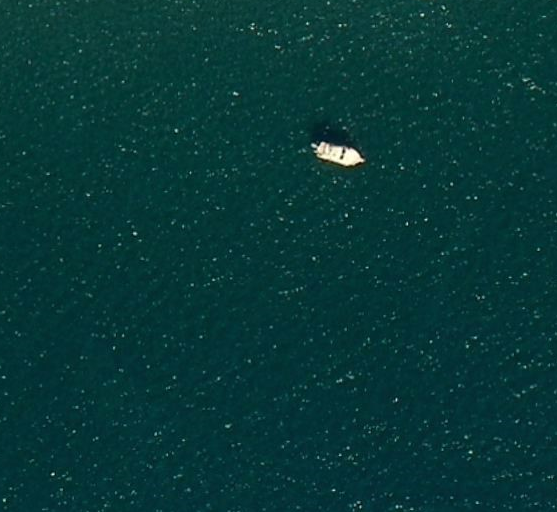ship: (306, 137, 371, 175)
